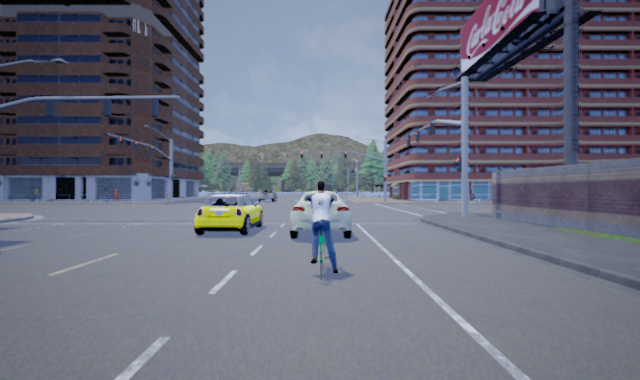bike: (309, 181, 340, 285)
pedestrian: (31, 186, 42, 202), (111, 186, 119, 202)
traffic_light: (424, 121, 433, 135), (455, 156, 462, 173), (115, 135, 123, 147), (299, 149, 305, 160), (415, 130, 420, 142), (148, 144, 154, 154), (319, 149, 324, 160), (133, 140, 138, 150), (344, 150, 348, 159)
vehicle: (289, 190, 352, 240), (194, 193, 262, 236), (258, 189, 276, 203)
